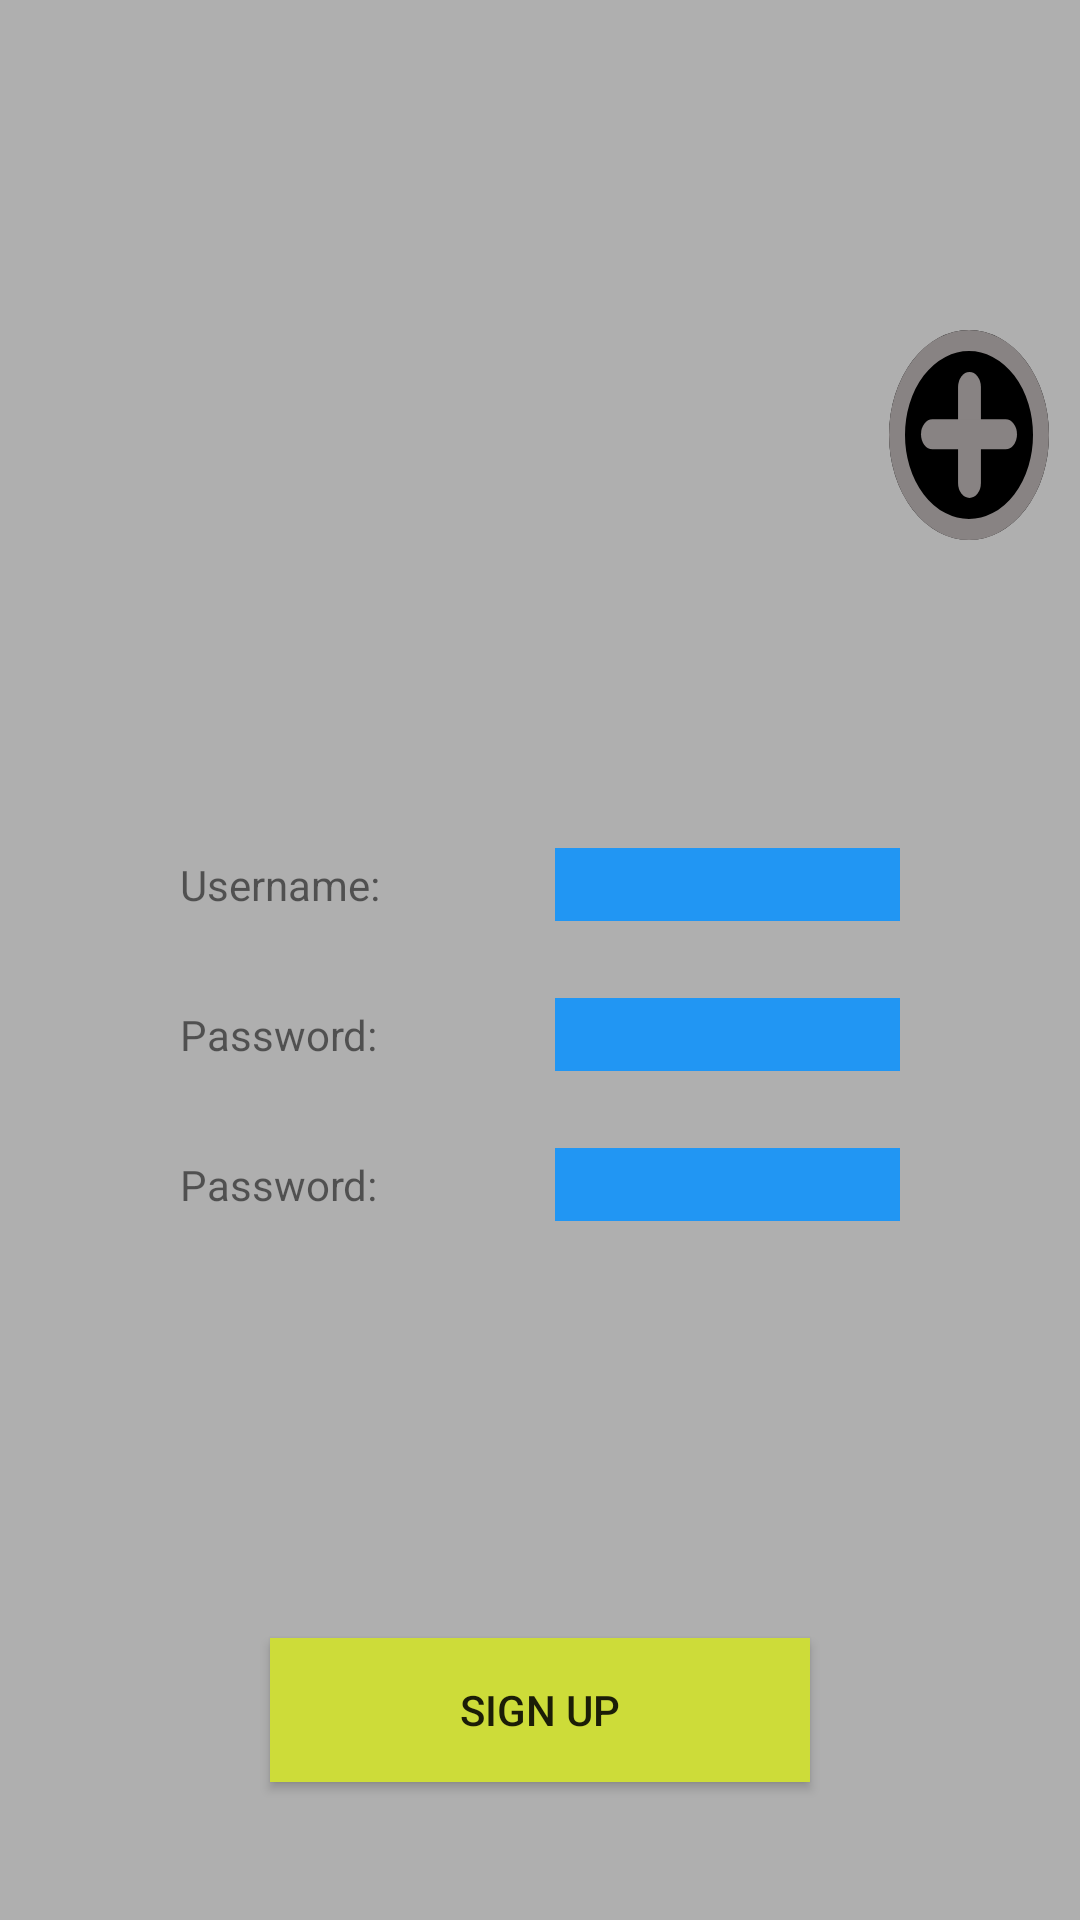

Icons on this 1080px x 1920px Android screen, each with its box as (x1, y1, x2, y2):
add picture: (889, 330, 1049, 540)
